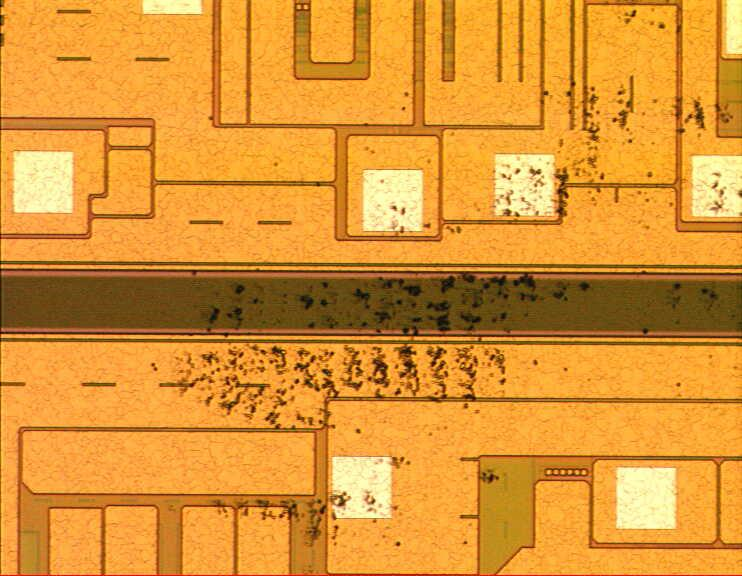SCRATCH: (148, 1, 742, 550)
